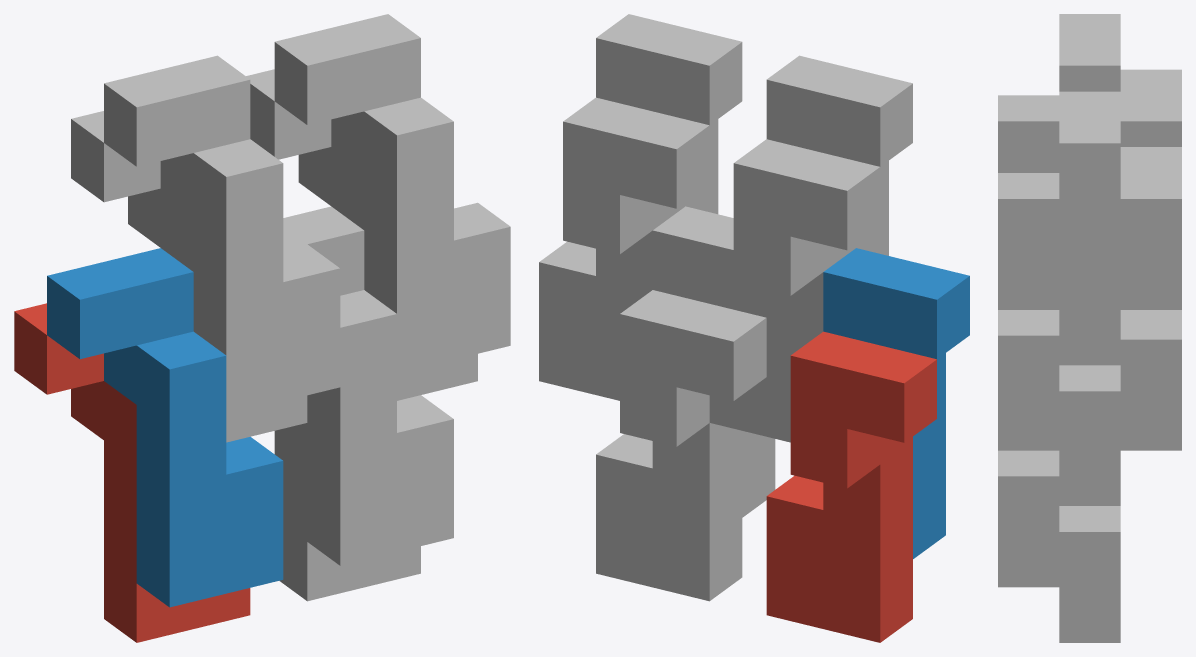
The model's file is tiling.obj.
3 views of the same model, side by side, from view 1: azimuth 30°, elevation 25°; view 2: azimuth 150°, elevation 25°; view 3: azimuth 270°, elevation 25° (orthographic). The views are drawn at different scales.
Parts seen in each view (by area): view 1: copy_1_domain_2, copy_1_domain_4, copy_1_domain_8, copy_1_domain_6, copy_1_domain_1, copy_1_domain_3, copy_1_domain_7, copy_1_domain_5; view 2: copy_1_domain_1, copy_1_domain_5, copy_1_domain_7, copy_1_domain_3, copy_1_domain_2, copy_1_domain_8, copy_1_domain_4, copy_1_domain_6; view 3: copy_1_domain_8, copy_1_domain_7, copy_1_domain_5, copy_1_domain_4, copy_1_domain_6, copy_1_domain_3.
Part boxes in pixels (<box>): copy_1_domain_2: <box>47,248,283,607</box>; copy_1_domain_4: <box>104,55,340,414</box>; copy_1_domain_8: <box>274,14,510,373</box>; copy_1_domain_6: <box>283,206,453,565</box>; copy_1_domain_1: <box>14,303,250,642</box>; copy_1_domain_3: <box>71,111,307,442</box>; copy_1_domain_7: <box>246,69,477,400</box>; copy_1_domain_5: <box>274,423,420,601</box>; copy_1_domain_1: <box>766,331,936,642</box>; copy_1_domain_5: <box>596,290,766,601</box>; copy_1_domain_7: <box>539,97,709,400</box>; copy_1_domain_3: <box>709,139,880,442</box>; copy_1_domain_2: <box>823,248,969,558</box>; copy_1_domain_8: <box>596,14,742,214</box>; copy_1_domain_4: <box>766,55,912,255</box>; copy_1_domain_6: <box>652,206,775,517</box>; copy_1_domain_8: <box>998,91,1120,446</box>; copy_1_domain_7: <box>1059,147,1181,502</box>; copy_1_domain_5: <box>1059,310,1181,642</box>; copy_1_domain_4: <box>998,14,1120,172</box>; copy_1_domain_6: <box>998,447,1059,587</box>; copy_1_domain_3: <box>1120,69,1181,146</box>.
Bounding box in the file's own units: 7 × 9 × 3.
